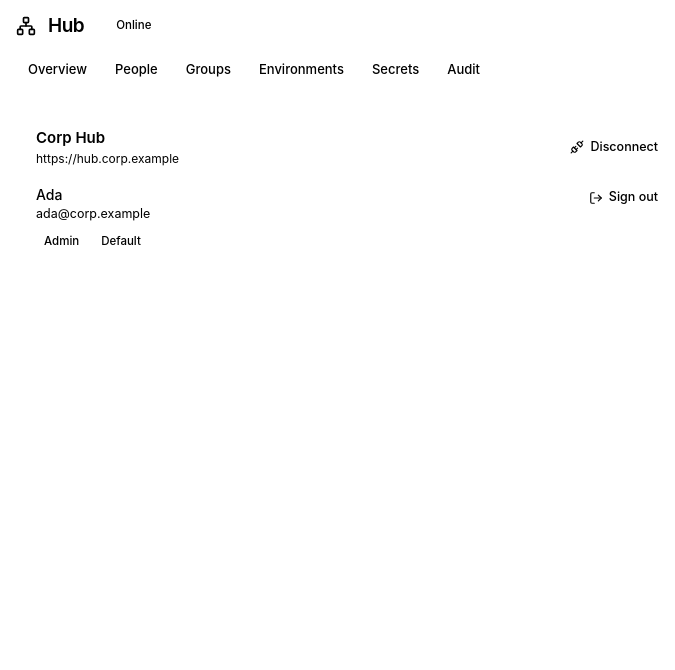
Test: hub admin panels › groups local environments under their product; Hub-only ones stay as they are
Later steps or results of the test are not shown.
What coordinates should you click on to do the following:
click the tab "Environments"
I would click on:
 (301, 70)
Its box is [247,52,356,88].
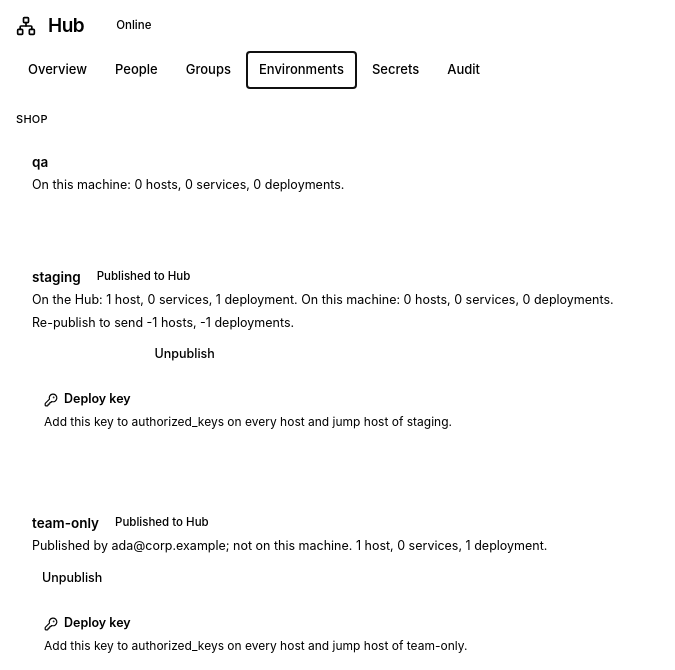
Check: the headings read "Shop", "qa", "staging", in this order, box [16,112,48,126]; [32,152,48,172]; [32,266,81,287]
Check: the heading "team-only" is shown, box [32,513,99,533]
